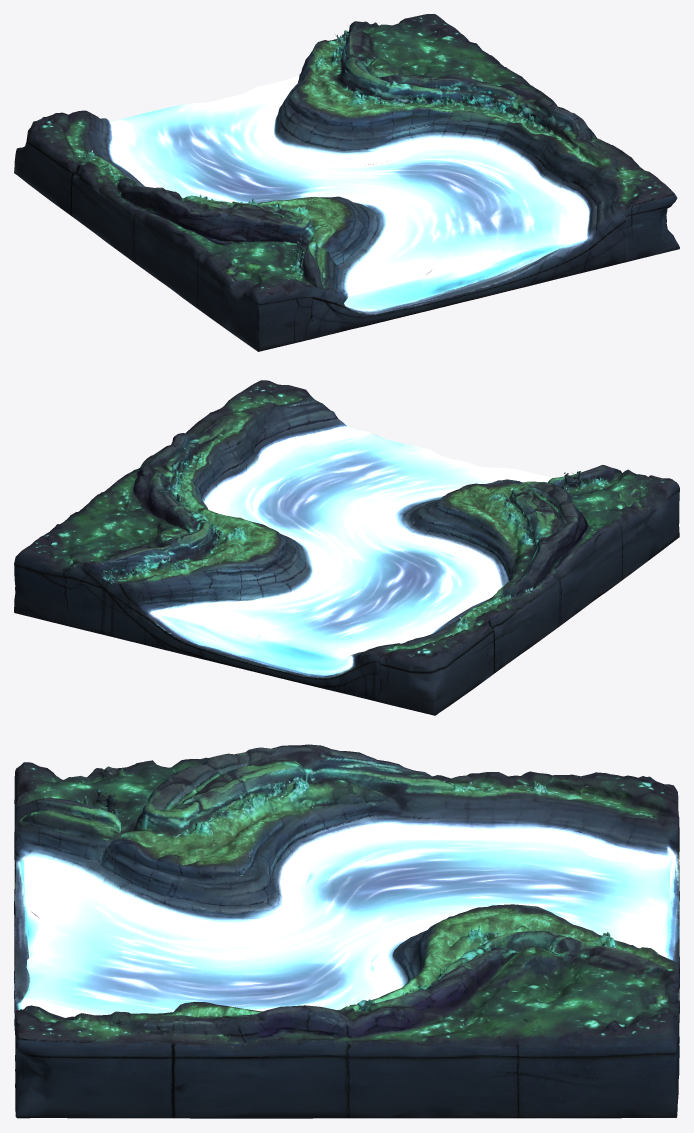
File: Luminal_Rift.fbx
3 views of the same model, one above another, from view 1: azimuth 30°, elevation 25°; view 2: azimuth 150°, elevation 25°; view 3: azimuth 270°, elevation 25° (orthographic). The views are drawn at different scales.
Parts seen in each view (by area): view 1: Luminal_Rift_LOD0; view 2: Luminal_Rift_LOD0; view 3: Luminal_Rift_LOD0.
Boxes of the visible parts, bbox=[...] form: Luminal_Rift_LOD0: bbox=[14, 14, 679, 351]; Luminal_Rift_LOD0: bbox=[14, 380, 679, 715]; Luminal_Rift_LOD0: bbox=[14, 744, 679, 1118].
Size of what is drawn, in the model's own units: 1.9 by 0.3312 by 1.89.
1 material, 1 textured.
